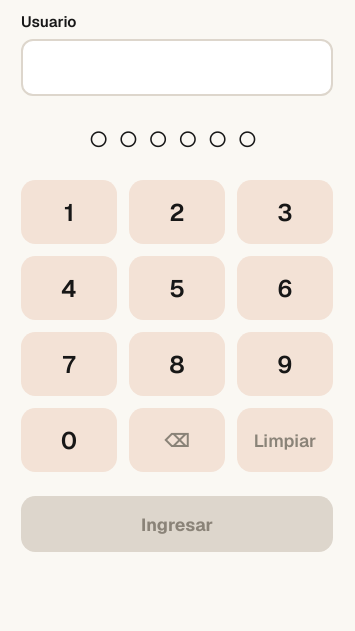
it: LoginFormMesero (T50, RF-1) › shows the exact API error message on failure and clears the PIN
Type "carlos" into the field labelled "Usuario" at (177, 68), box top-left (21, 39), bottom-right (333, 96)
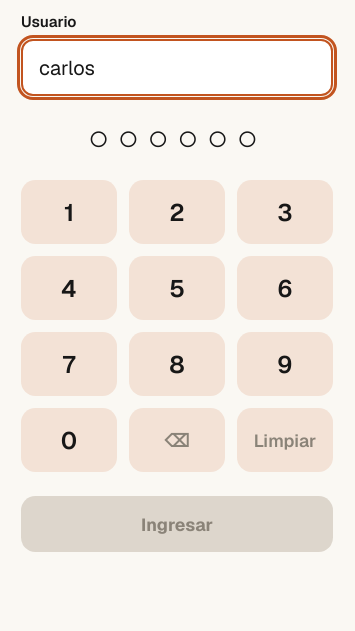
Click the button named "Dígito 1" at (69, 212), box top-left (21, 180), bottom-right (117, 244)
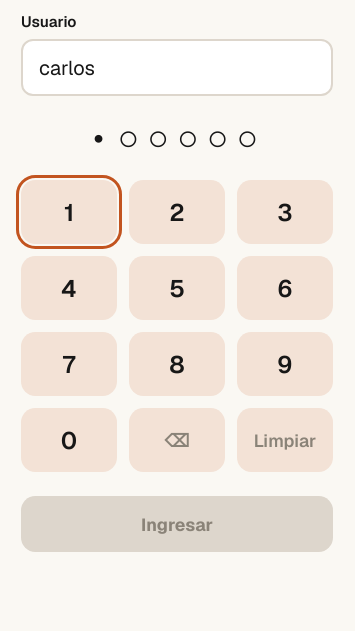
Click the button named "Dígito 2" at (177, 212), box top-left (129, 180), bottom-right (225, 244)
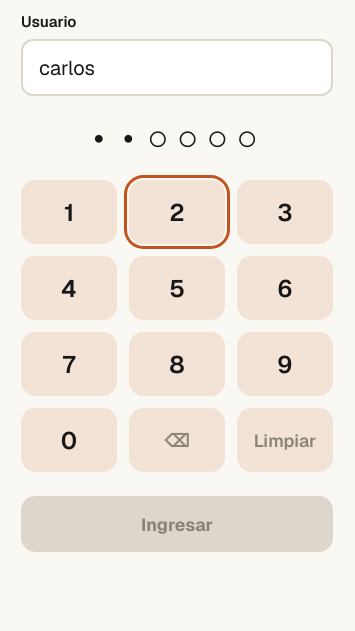
Click the button "3" at (285, 212), box top-left (237, 180), bottom-right (333, 244)
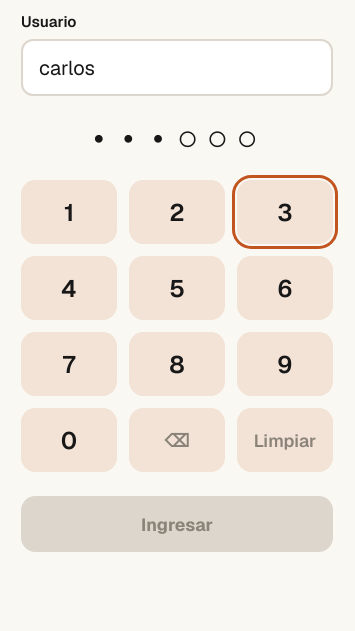
Click the button "4" at (69, 288), box top-left (21, 256), bottom-right (117, 320)
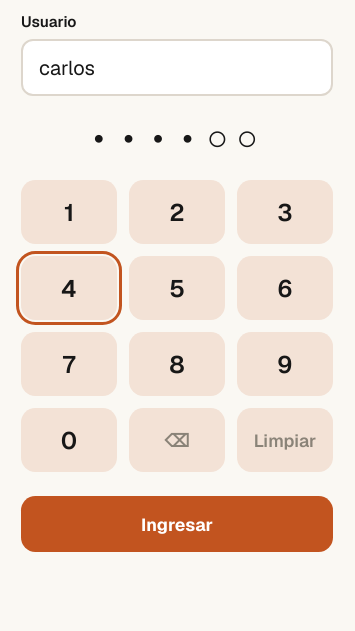
Click the button "Ingresar" at (177, 524), box top-left (21, 496), bottom-right (333, 552)
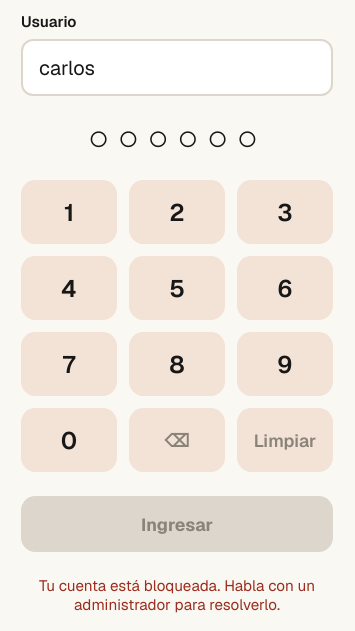
Expected: the text "Tu cuenta está bloqueada. Habla con un administrador para resolverlo." is shown, top-left (21, 576), bottom-right (333, 614)
